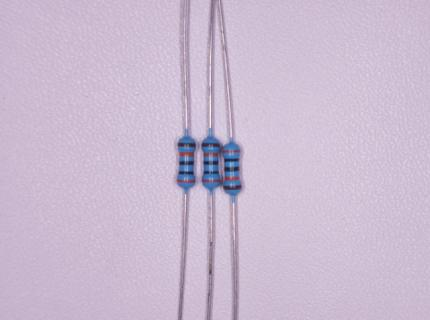Black band: (225, 167, 239, 172), (180, 161, 194, 165), (204, 170, 218, 174), (179, 171, 193, 175), (204, 161, 218, 165), (225, 159, 238, 162)
Brown band: (223, 184, 241, 190), (179, 143, 196, 147), (202, 143, 219, 147)
Orange band: (223, 149, 240, 153), (225, 176, 240, 180), (179, 152, 193, 156), (203, 179, 220, 182), (178, 179, 195, 182), (204, 153, 217, 156)
